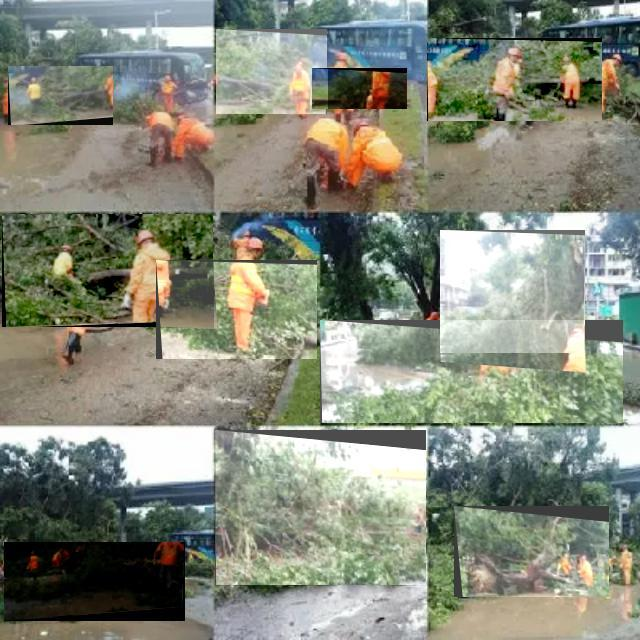fallen_tree: (215, 430, 427, 586), (320, 320, 624, 424), (2, 214, 214, 328), (440, 230, 586, 354), (156, 260, 318, 360), (427, 38, 603, 122), (4, 542, 186, 622), (454, 506, 610, 598), (216, 29, 328, 115), (8, 66, 114, 126), (312, 68, 408, 110)
